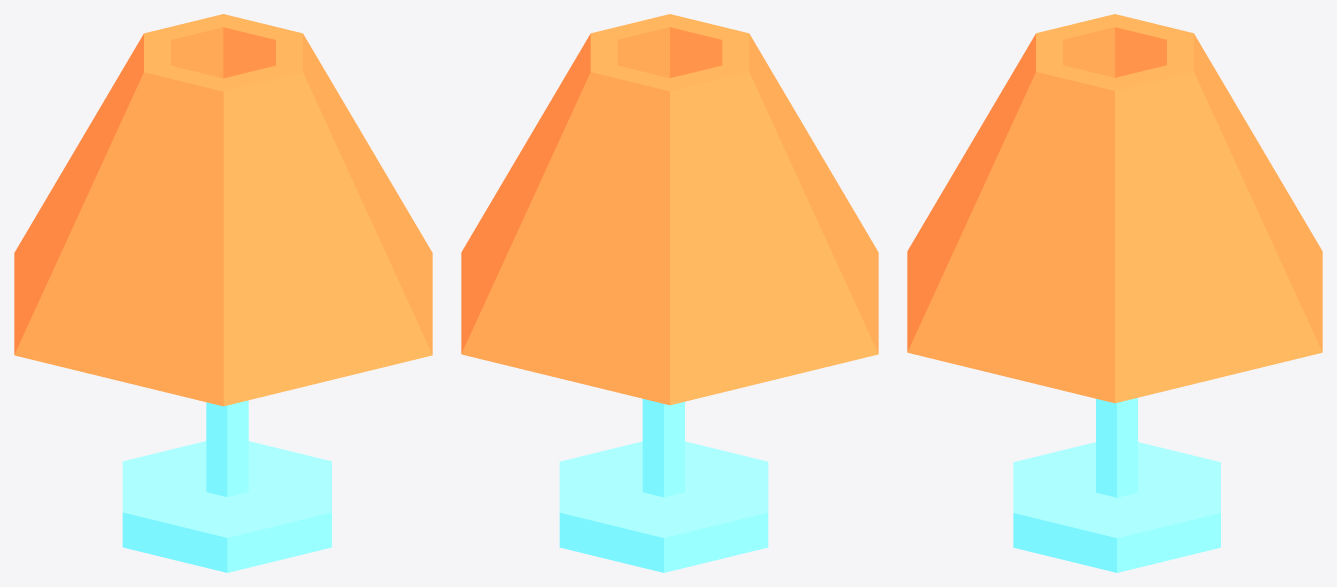
File: SmallLamp.fbx
3 renders of one model, left to right at view 1: azimuth 30°, elevation 25°; view 2: azimuth 150°, elevation 25°; view 3: azimuth 270°, elevation 25°, orthographic.
Parts seen in each view (by area): view 1: Lamp; view 2: Lamp; view 3: Lamp.
Part boxes in pixels (box(x1,y1,x2,y2)): Lamp: box(14, 14, 432, 572); Lamp: box(461, 14, 878, 572); Lamp: box(907, 14, 1322, 572).
Size of the model in its own units: 131 by 141 by 114.
